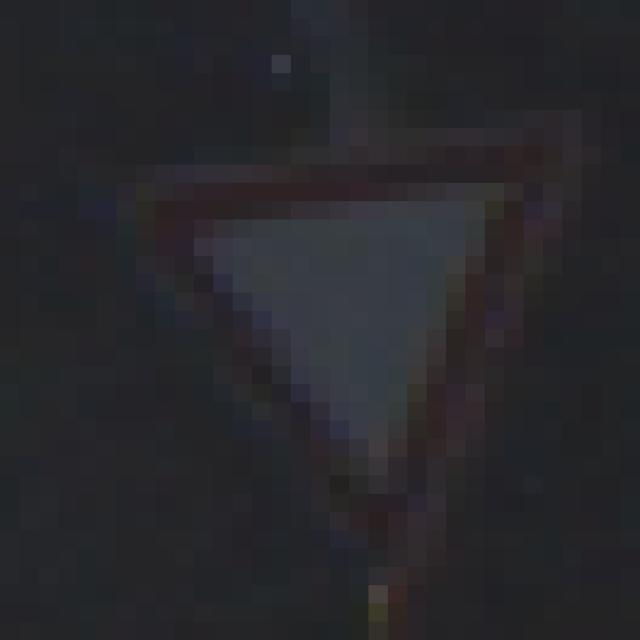Give Way: (98, 93, 544, 532)
